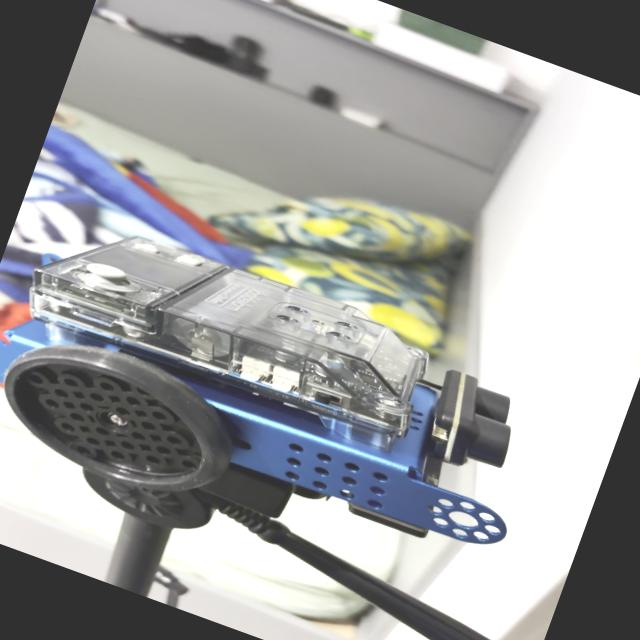mbot-detection: (0, 182, 582, 624)
